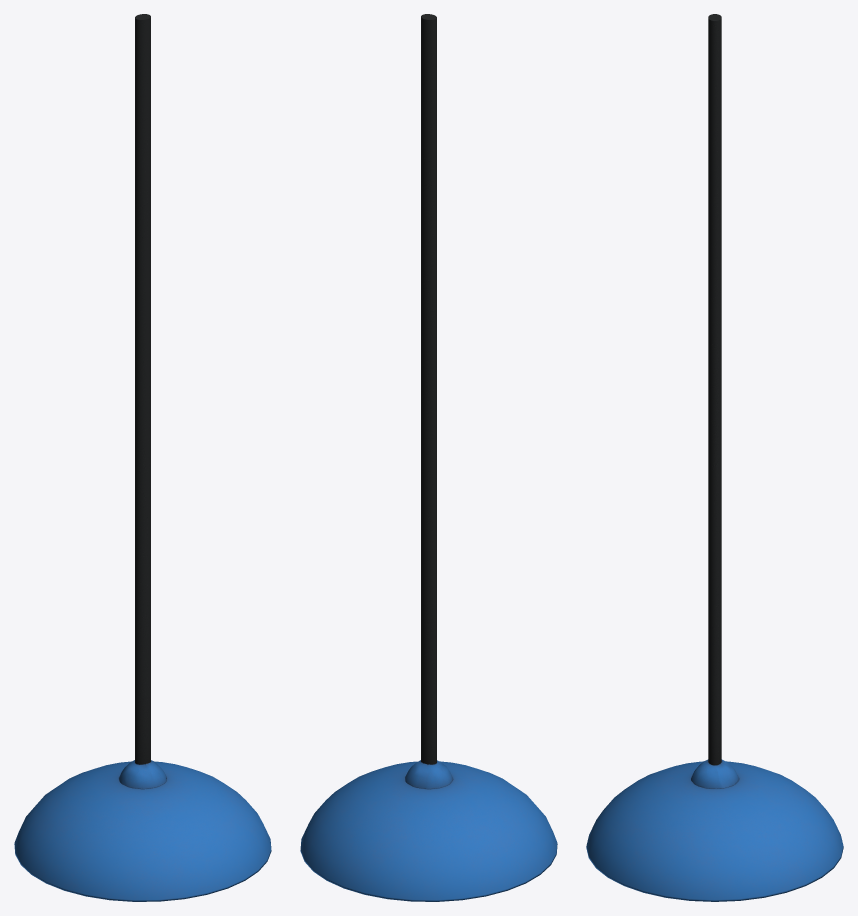
Rendered from SM_Hanglamp.fbx.
3 views of the same model, side by side, from view 1: azimuth 30°, elevation 25°; view 2: azimuth 150°, elevation 25°; view 3: azimuth 270°, elevation 25° (orthographic).
Visible parts, largest first — view 1: SM_HangLamp; view 2: SM_HangLamp; view 3: SM_HangLamp.
Part boxes in pixels (box(x1,y1,x2,y2)): SM_HangLamp: box(14, 14, 271, 901); SM_HangLamp: box(300, 14, 557, 901); SM_HangLamp: box(586, 14, 843, 901).
Bounding box in the file's own units: 36.86 × 131 × 36.86.
1 material, 1 textured.
